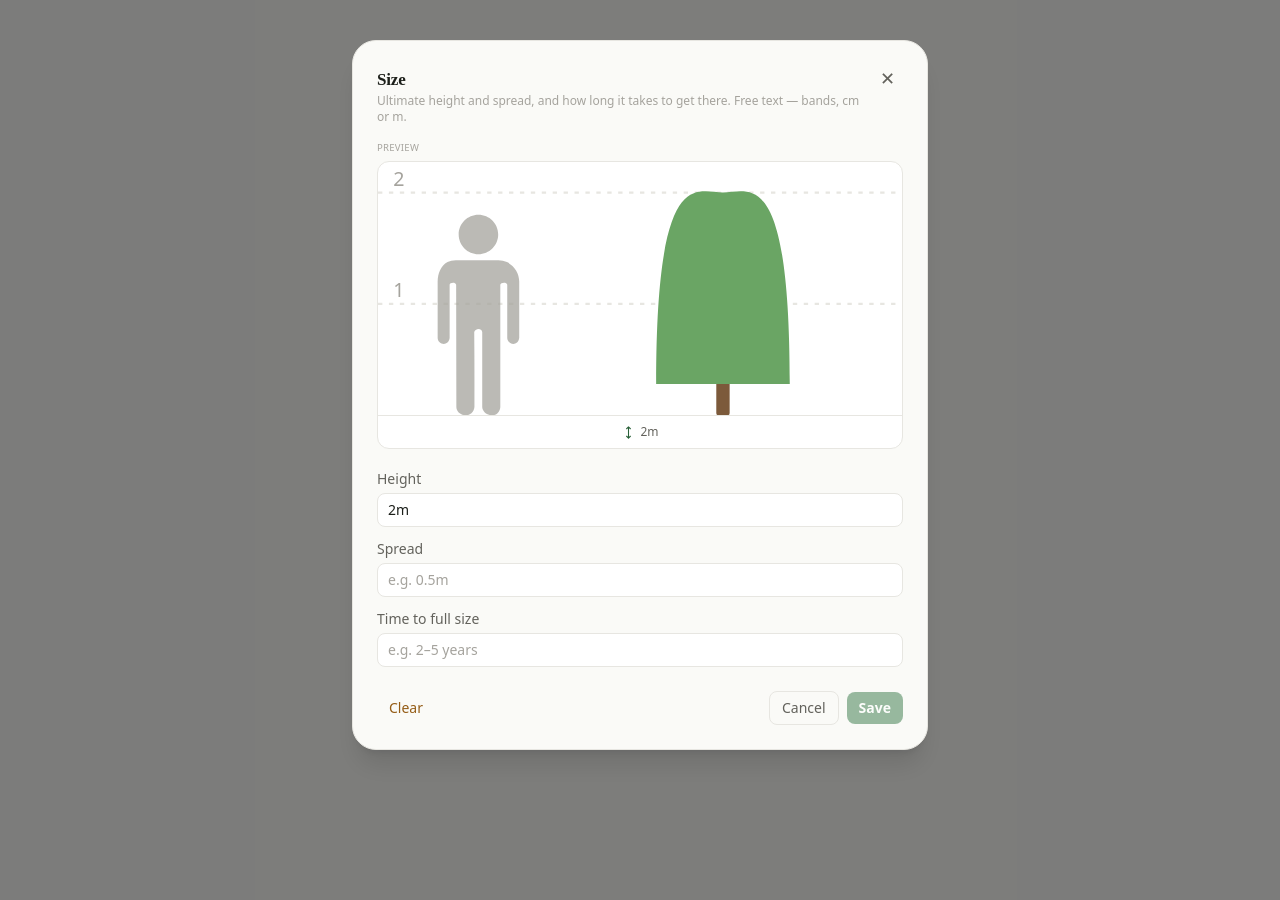
Test: SizeEditor (modal shell behaviour) › Save is disabled until the draft is dirty
The width and height of the screenshot is (1280, 900).
Check: the button "Save" is disabled, box left=847, top=692, right=903, bottom=724
Type "!" into the field with placeholder "e.g. 0.1–0.5m or 2-4m". click: (640, 510)
box: left=377, top=493, right=903, bottom=527
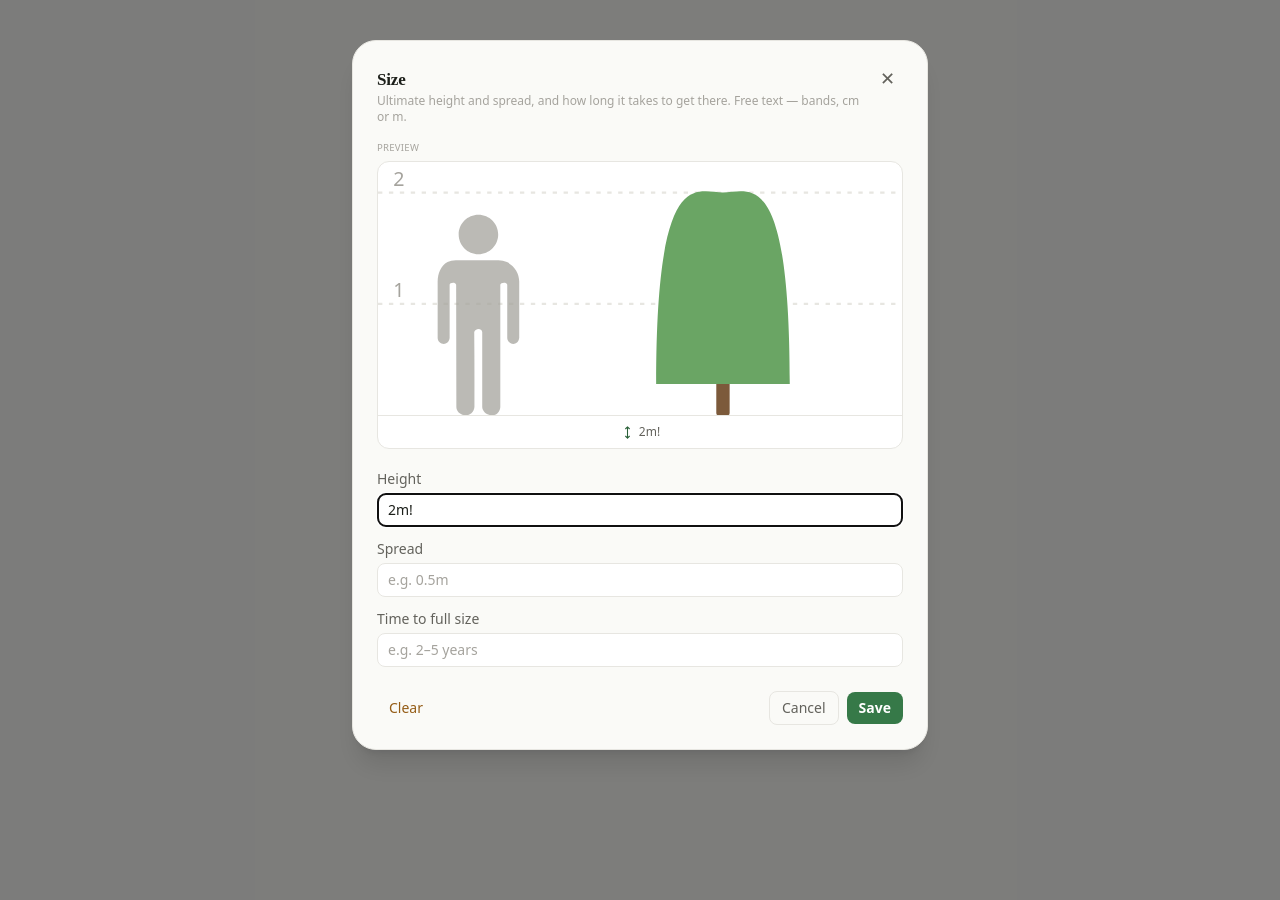
Check: the button "Save" is enabled, box left=847, top=692, right=903, bottom=724
